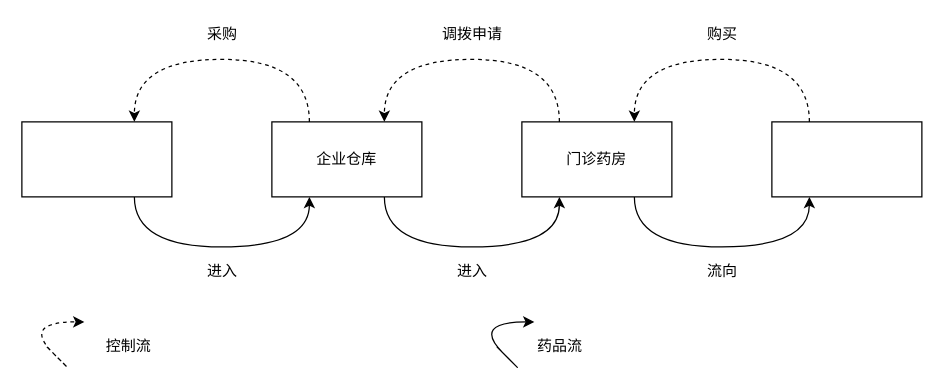
Image size: 944x389. Some labels were removed from this diagram. Each missing label, with the centre of its shape:
串者: (x=846, y=159)
供应商 仓库: (x=96, y=159)
